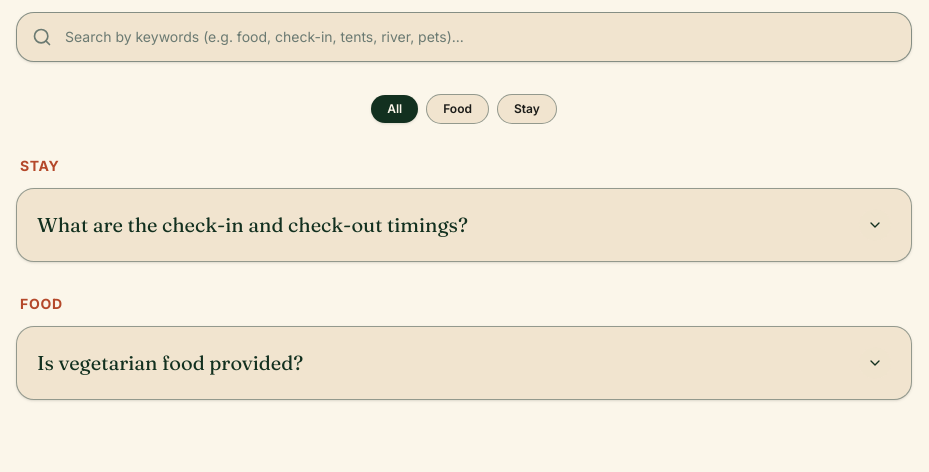
Test case: public pages accessibility & components › FaqAccordion renders accessible buttons with aria-expanded and expands on click
This screenshot has width=929, height=472.
Expected: the search field is shown, top-left (16, 12), bottom-right (912, 62)
Click to expand
Click the button "What are the check-in and check-out timings?": {"x": 464, "y": 225} top-left (17, 189), bottom-right (911, 261)
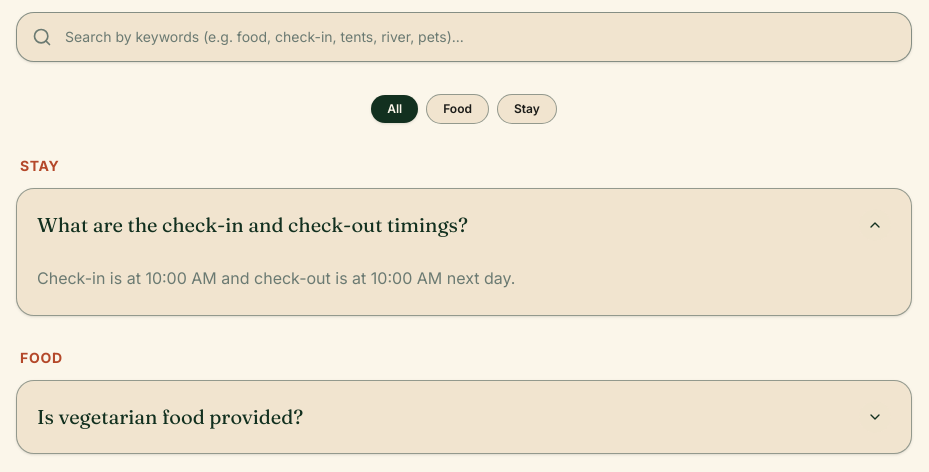
Expected: the button "What are the check-in and check-out timings?" is expanded
Expected: the text "Check-in is at 10:00 AM and check-out is at 10:00 AM" is shown, top-left (37, 268), bottom-right (515, 288)
Click to collapse
Click the button "What are the check-in and check-out timings?": {"x": 464, "y": 225} top-left (17, 189), bottom-right (911, 261)
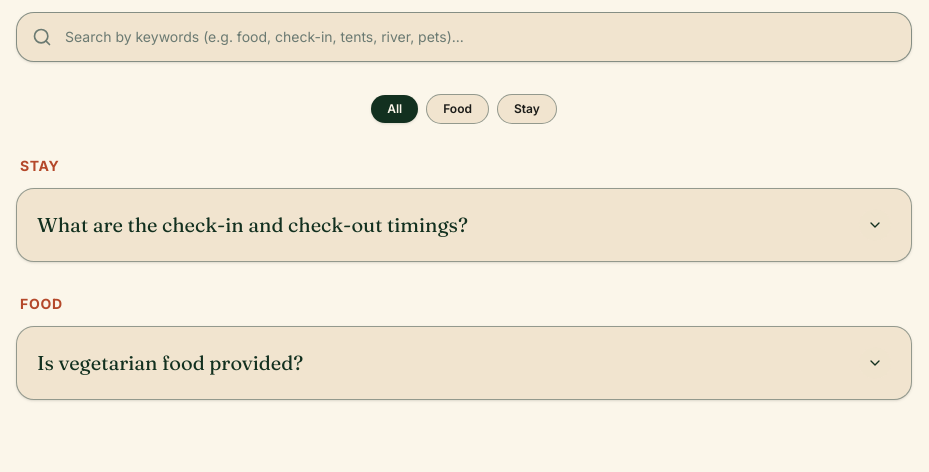
Expected: the button "What are the check-in and check-out timings?" is collapsed, top-left (17, 189), bottom-right (911, 261)
